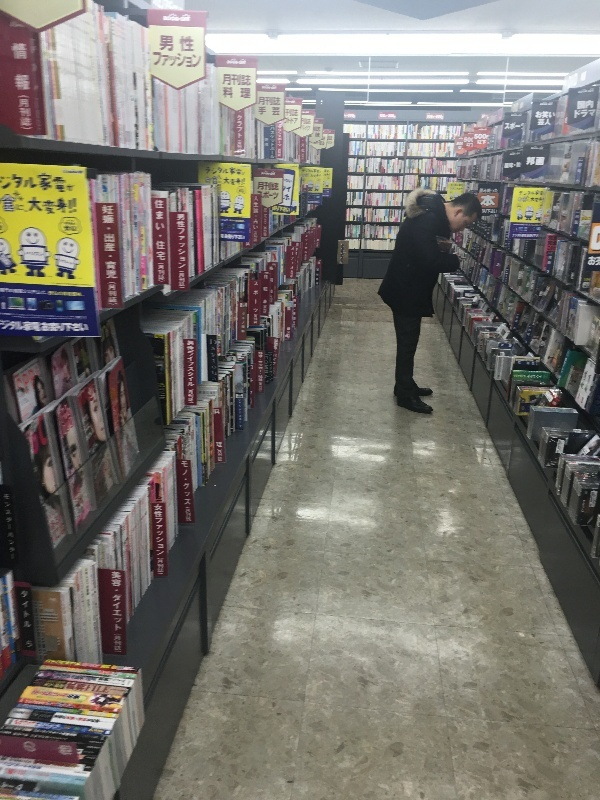text: (17, 41, 32, 131), (101, 204, 112, 307), (113, 571, 123, 654), (177, 213, 187, 290), (181, 459, 192, 523), (21, 588, 32, 652), (113, 204, 119, 307), (210, 339, 224, 381), (258, 351, 272, 392), (214, 407, 224, 464), (154, 199, 160, 283), (161, 199, 167, 283), (11, 41, 16, 131), (154, 504, 160, 576), (305, 235, 320, 262), (291, 247, 304, 278), (274, 338, 288, 366), (1, 171, 16, 195), (17, 171, 32, 195), (33, 171, 48, 195), (49, 171, 64, 195), (278, 125, 288, 158), (293, 299, 304, 329), (264, 275, 272, 316), (187, 340, 192, 405), (161, 34, 176, 54), (177, 34, 192, 54), (1, 194, 16, 214), (242, 312, 256, 333), (161, 504, 165, 576), (161, 51, 176, 70), (177, 51, 192, 70), (33, 196, 48, 215), (49, 196, 64, 215), (250, 365, 256, 408), (264, 207, 272, 236), (549, 236, 560, 257), (65, 196, 77, 215), (225, 73, 240, 88), (1, 318, 16, 333), (17, 318, 32, 333), (33, 318, 48, 333), (49, 318, 64, 333), (65, 318, 80, 333), (209, 164, 224, 179), (225, 164, 240, 179), (549, 254, 560, 274), (225, 87, 240, 101), (481, 195, 496, 209), (265, 353, 272, 383), (258, 95, 272, 108), (529, 156, 544, 168), (193, 51, 202, 70), (241, 73, 252, 88), (577, 109, 592, 120), (259, 105, 272, 117), (241, 87, 252, 101), (577, 99, 592, 109), (209, 176, 224, 186), (225, 176, 240, 186), (529, 195, 545, 204), (258, 181, 272, 191), (81, 318, 90, 333), (273, 205, 288, 214), (1, 288, 16, 297), (17, 288, 32, 297), (33, 288, 48, 297), (49, 288, 64, 297), (65, 288, 80, 297), (153, 51, 160, 70), (193, 340, 195, 405), (258, 191, 272, 200), (481, 187, 496, 195), (67, 183, 80, 192), (513, 122, 525, 131), (305, 167, 320, 174), (273, 95, 281, 108), (273, 126, 276, 159), (254, 195, 256, 244), (257, 195, 259, 244), (27, 196, 32, 215), (451, 184, 464, 191), (289, 108, 299, 117), (33, 41, 34, 131), (529, 191, 544, 197), (518, 195, 528, 204), (305, 173, 320, 179), (254, 281, 256, 325), (257, 281, 259, 325), (273, 105, 280, 117), (482, 208, 496, 214), (269, 353, 272, 381), (111, 571, 112, 654), (513, 161, 522, 170), (545, 111, 555, 119), (270, 266, 272, 304), (237, 115, 240, 140), (504, 161, 512, 170), (316, 268, 320, 286), (270, 126, 272, 159), (289, 307, 291, 340), (467, 143, 480, 148), (536, 111, 544, 119), (33, 588, 34, 652), (289, 118, 298, 125), (505, 122, 512, 131), (465, 136, 474, 143), (241, 398, 243, 429), (273, 181, 279, 191), (305, 117, 311, 126), (273, 191, 279, 200), (519, 191, 528, 197), (323, 136, 336, 140), (241, 115, 243, 140), (241, 176, 246, 186), (595, 256, 600, 266), (538, 118, 544, 126), (545, 118, 551, 126), (474, 133, 480, 141), (318, 225, 320, 249), (588, 255, 592, 267), (593, 255, 597, 267), (237, 140, 240, 155), (81, 288, 86, 297), (193, 34, 195, 54), (481, 133, 486, 141), (328, 136, 336, 141), (273, 266, 274, 304), (305, 125, 311, 131), (284, 185, 288, 194), (284, 194, 288, 203), (481, 139, 486, 146), (301, 143, 304, 154), (593, 109, 596, 120), (287, 307, 288, 340), (239, 398, 240, 429), (315, 132, 320, 138), (241, 140, 243, 155), (206, 164, 208, 179), (457, 142, 464, 146), (301, 117, 304, 126), (289, 185, 292, 194), (316, 126, 320, 132), (321, 141, 325, 147), (65, 171, 66, 195), (574, 109, 576, 120), (285, 118, 288, 125), (477, 139, 480, 146), (159, 34, 160, 54), (593, 99, 595, 109), (206, 176, 208, 186), (286, 108, 288, 117), (301, 125, 304, 131), (289, 205, 291, 214), (497, 187, 499, 195), (223, 73, 224, 88), (241, 164, 242, 179), (302, 167, 304, 174), (527, 156, 528, 168), (545, 156, 546, 168), (302, 173, 304, 179), (289, 194, 290, 203), (479, 187, 480, 195), (321, 167, 322, 174), (319, 141, 320, 147), (497, 208, 498, 214), (321, 173, 322, 179)
